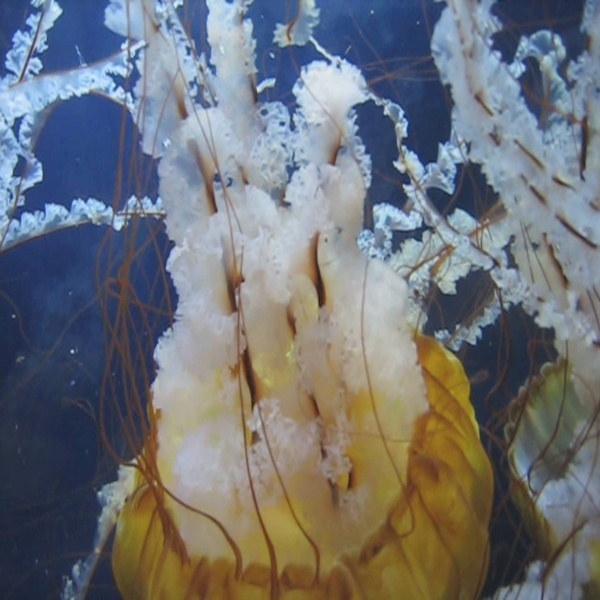Jellyfish: (45, 20, 523, 600)
